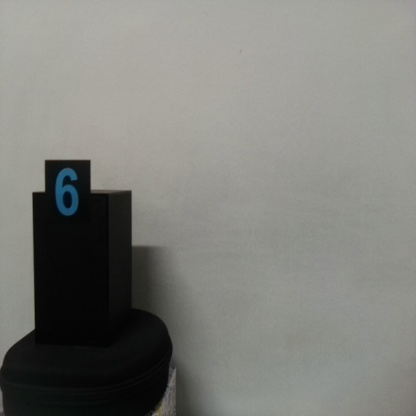id_6: (44, 159, 90, 234)
